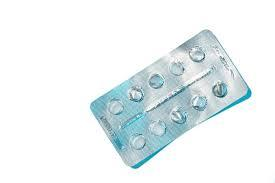pill_Strip: (91, 30, 250, 166), (119, 65, 214, 128), (145, 66, 214, 111), (99, 116, 124, 149), (212, 46, 235, 78), (119, 111, 146, 128)
